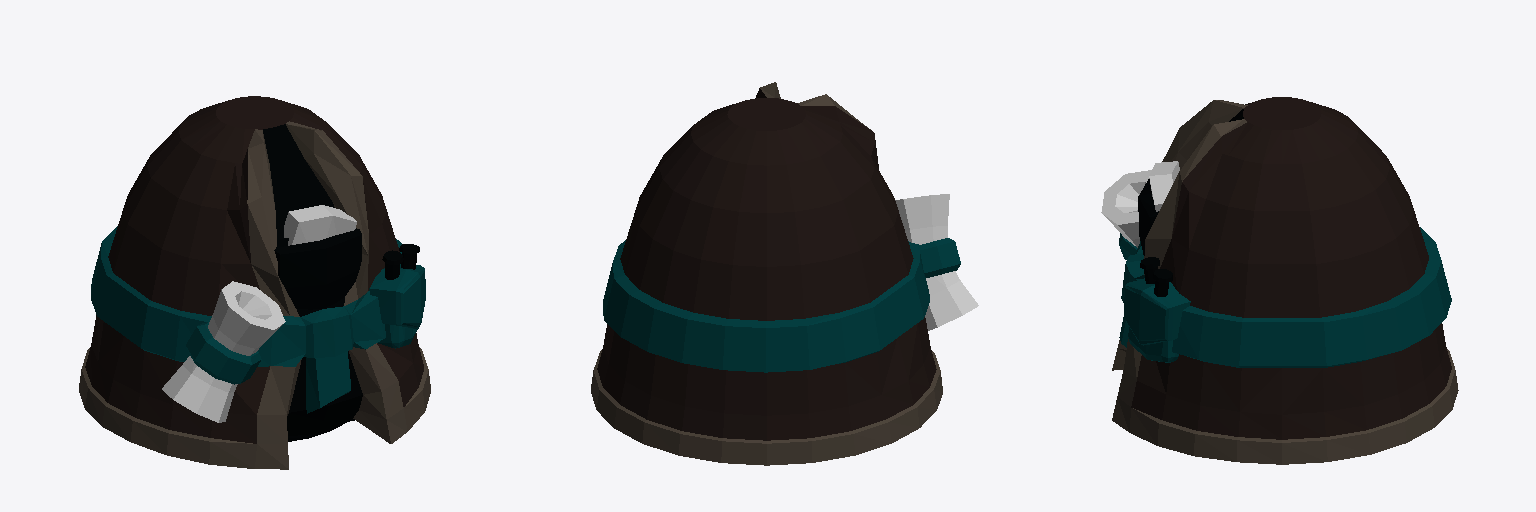
Rendered from character_merchantBody.obj.
The picture shows the model from 3 angles: view 1: azimuth 30°, elevation 25°; view 2: azimuth 150°, elevation 25°; view 3: azimuth 270°, elevation 25°; orthographic projection.
Parts seen in each view (by area): view 1: character_merchantBody_Cube.5985; view 2: character_merchantBody_Cube.5985; view 3: character_merchantBody_Cube.5985.
Part boxes in pixels (left/top/right/bottom): character_merchantBody_Cube.5985: left=79, top=96, right=430, bottom=469; character_merchantBody_Cube.5985: left=591, top=82, right=978, bottom=465; character_merchantBody_Cube.5985: left=1101, top=97, right=1458, bottom=464.
Size of the model in its own units: 0.8104 by 0.7293 by 0.8204.